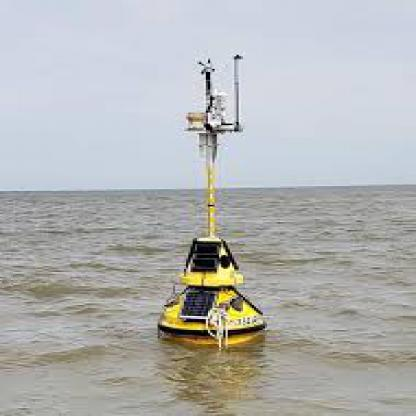buoy: (145, 184, 289, 342)
